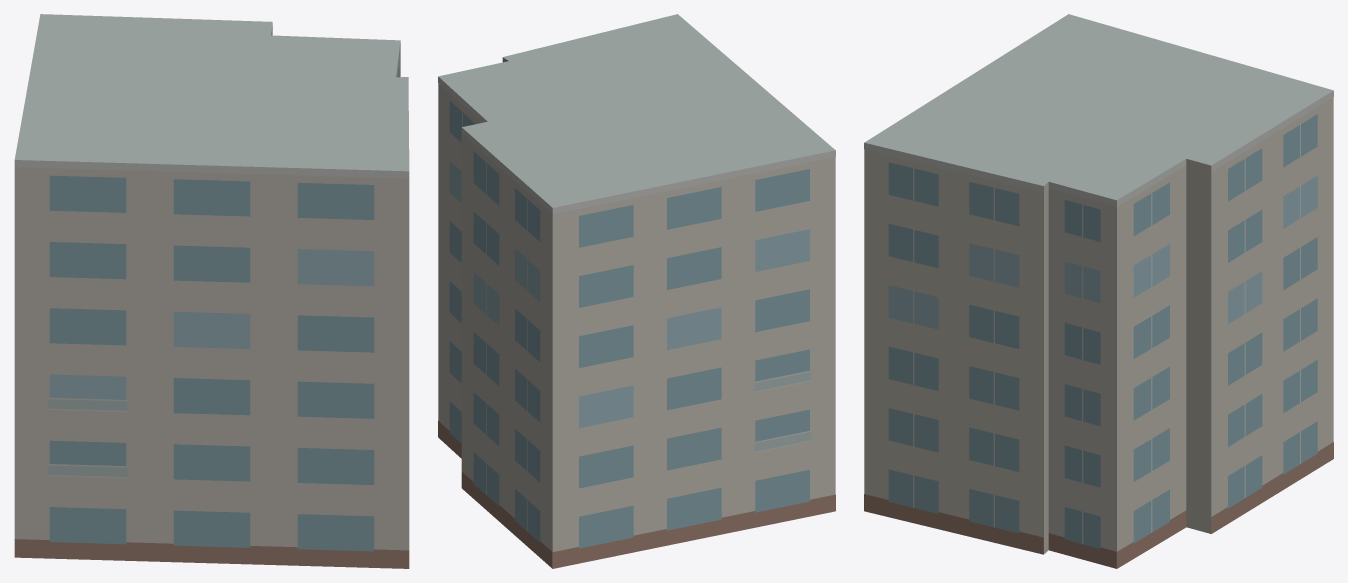
The model's file is survey-upis-32878314.glb.
3 renders of one model, left to right at view 1: azimuth 30°, elevation 25°; view 2: azimuth 150°, elevation 25°; view 3: azimuth 270°, elevation 25°, orthographic. The views are drawn at different scales.
Parts seen in each view (by area): view 1: survey-upis-32878314.tmp; view 2: survey-upis-32878314.tmp; view 3: survey-upis-32878314.tmp.
Part boxes in pixels (<box>): survey-upis-32878314.tmp: <box>14,14,409,568</box>; survey-upis-32878314.tmp: <box>438,14,835,568</box>; survey-upis-32878314.tmp: <box>864,14,1333,568</box>.
Bounding box in the file's own units: 14.68 × 13.53 × 15.64.
